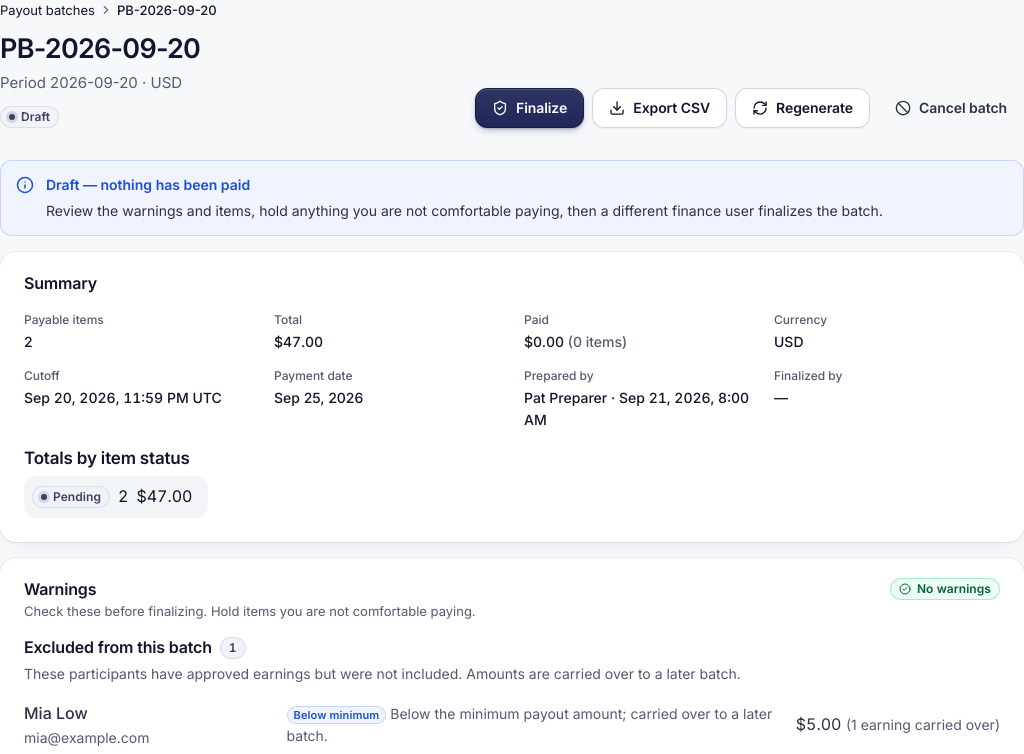
BatchReviewPage — finalize › shows dispatch results and states that no money has been sent
Click the button "Finalize" at point(530, 108), box [475,88,584,128]
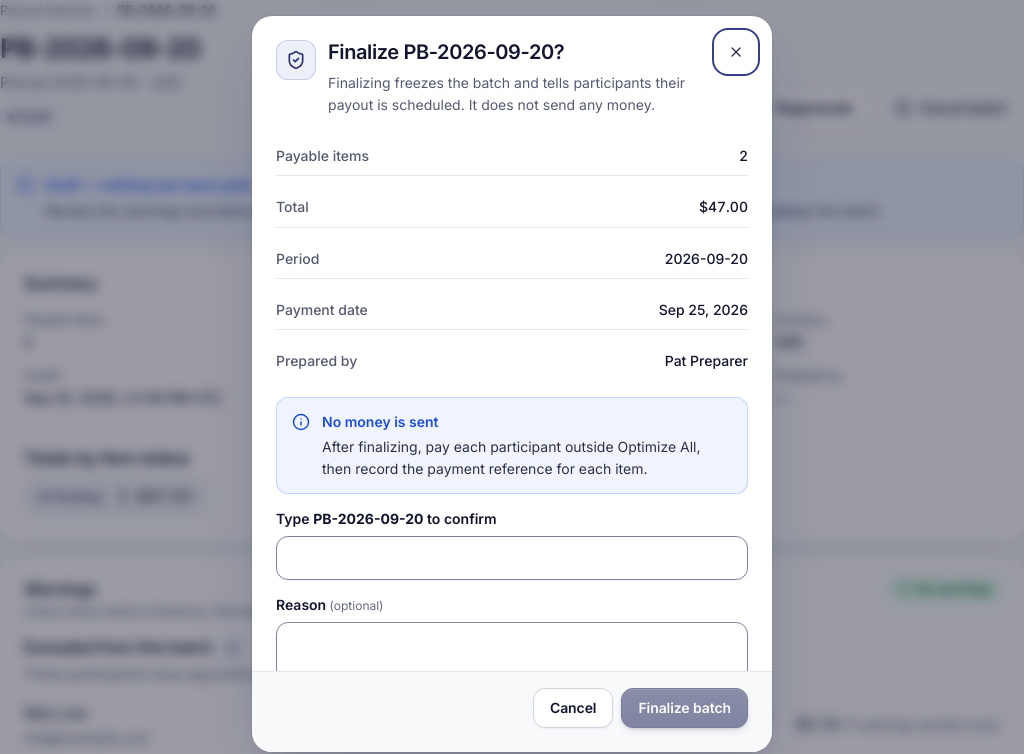
Type "PB-2026-09-20" into the field labelled "Type PB-2026-09-20 to confirm" at point(512, 558), box [276,536,748,580]
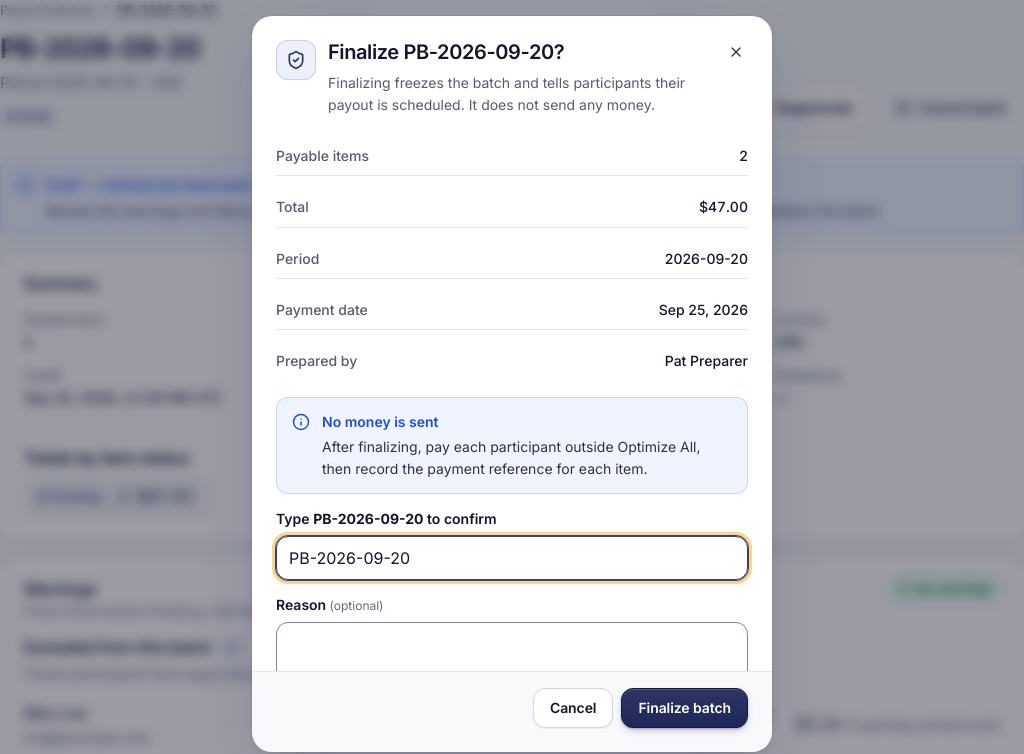
Click the button "Finalize batch" at point(685, 708), box [621,688,748,728]
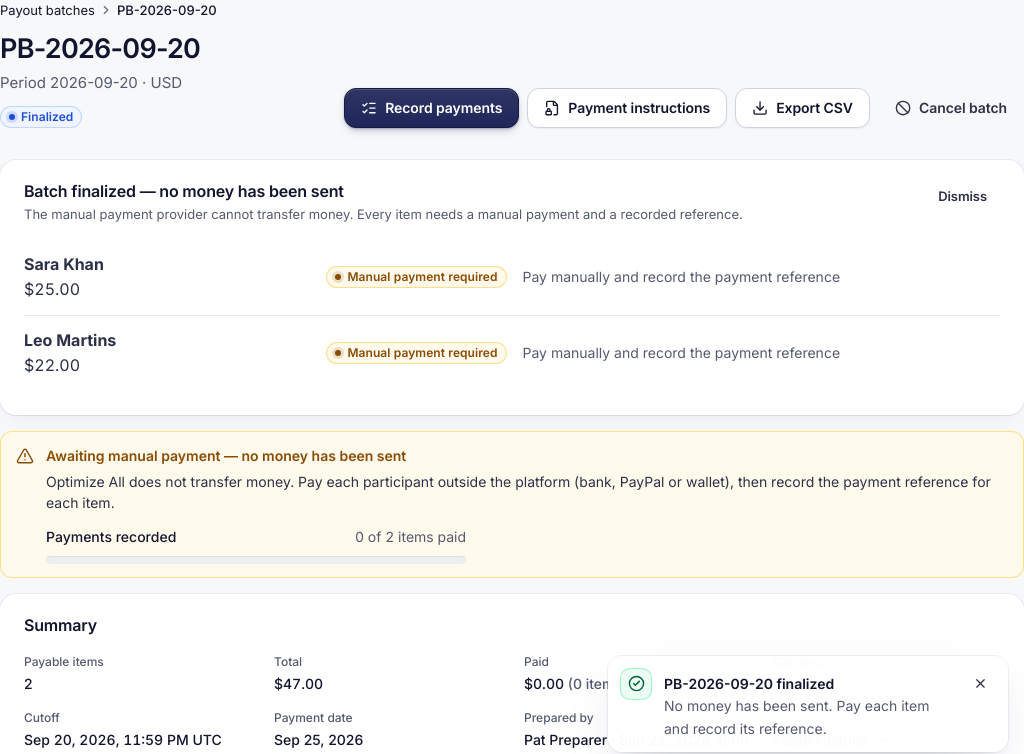
Result: the heading "Batch finalized — no money has been sent" is shown at [24,181,344,201]
Result: the text "Manual payment required" is shown 2 times at [326,266,506,288]; [326,342,506,364]
Result: the text "Awaiting manual payment — no money has been sent" is shown at [46,447,406,464]
